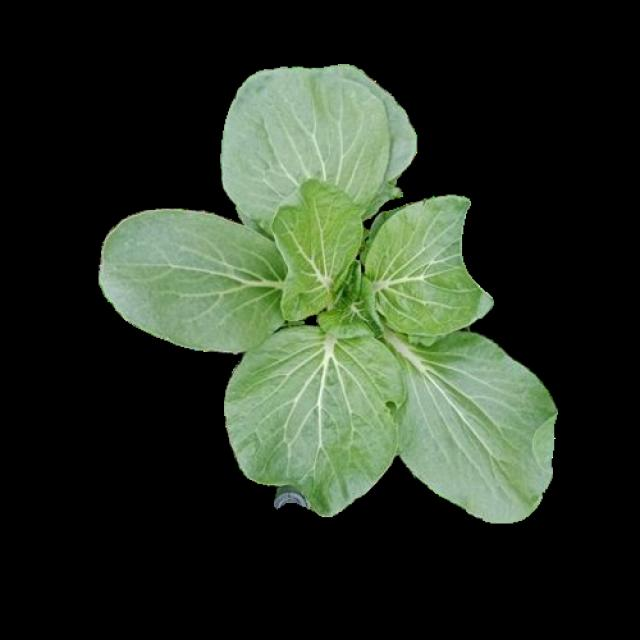mature: (102, 66, 557, 524)
unhealthy: (224, 324, 413, 518), (361, 194, 498, 338)
